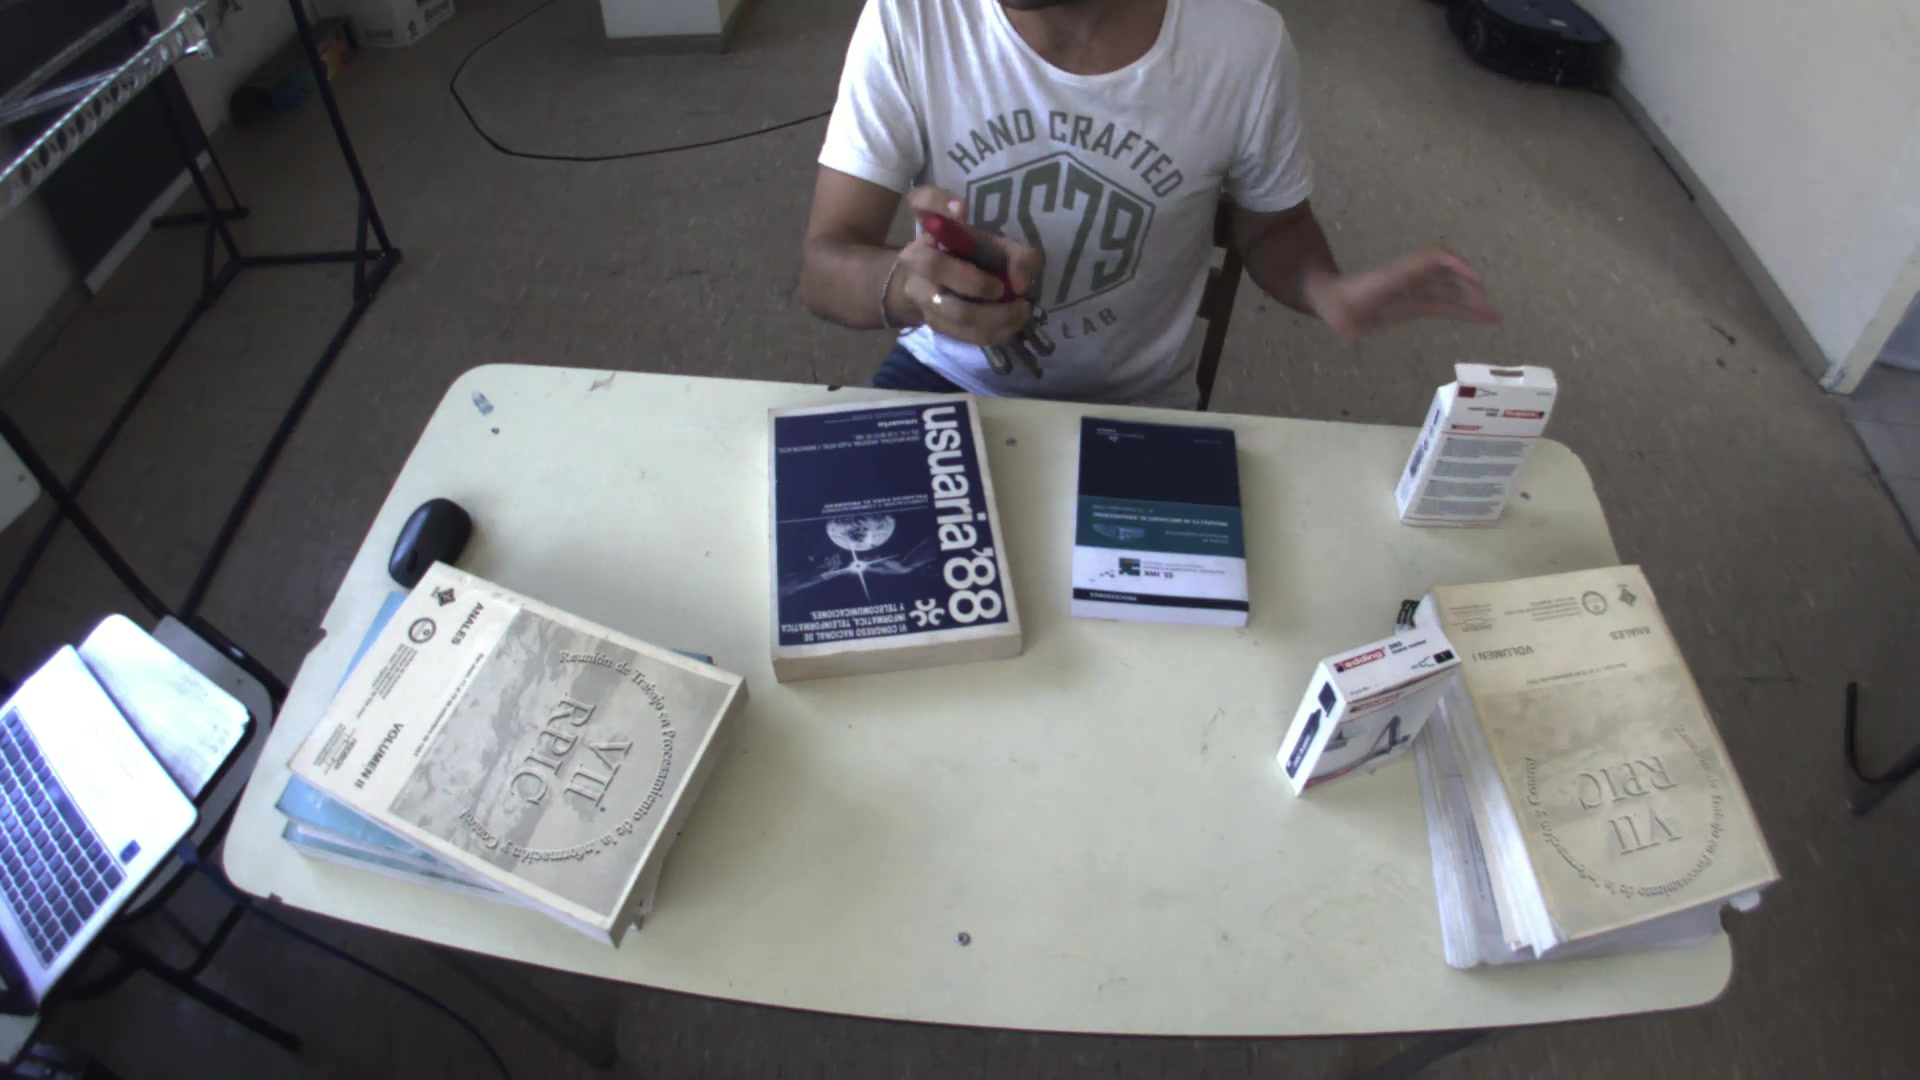hand: (878, 196, 1058, 356), (1327, 225, 1514, 342)
